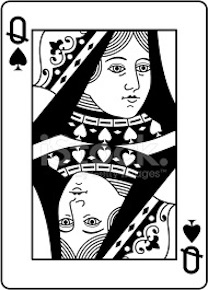QueenOfSpades: (2, 1, 208, 289)
